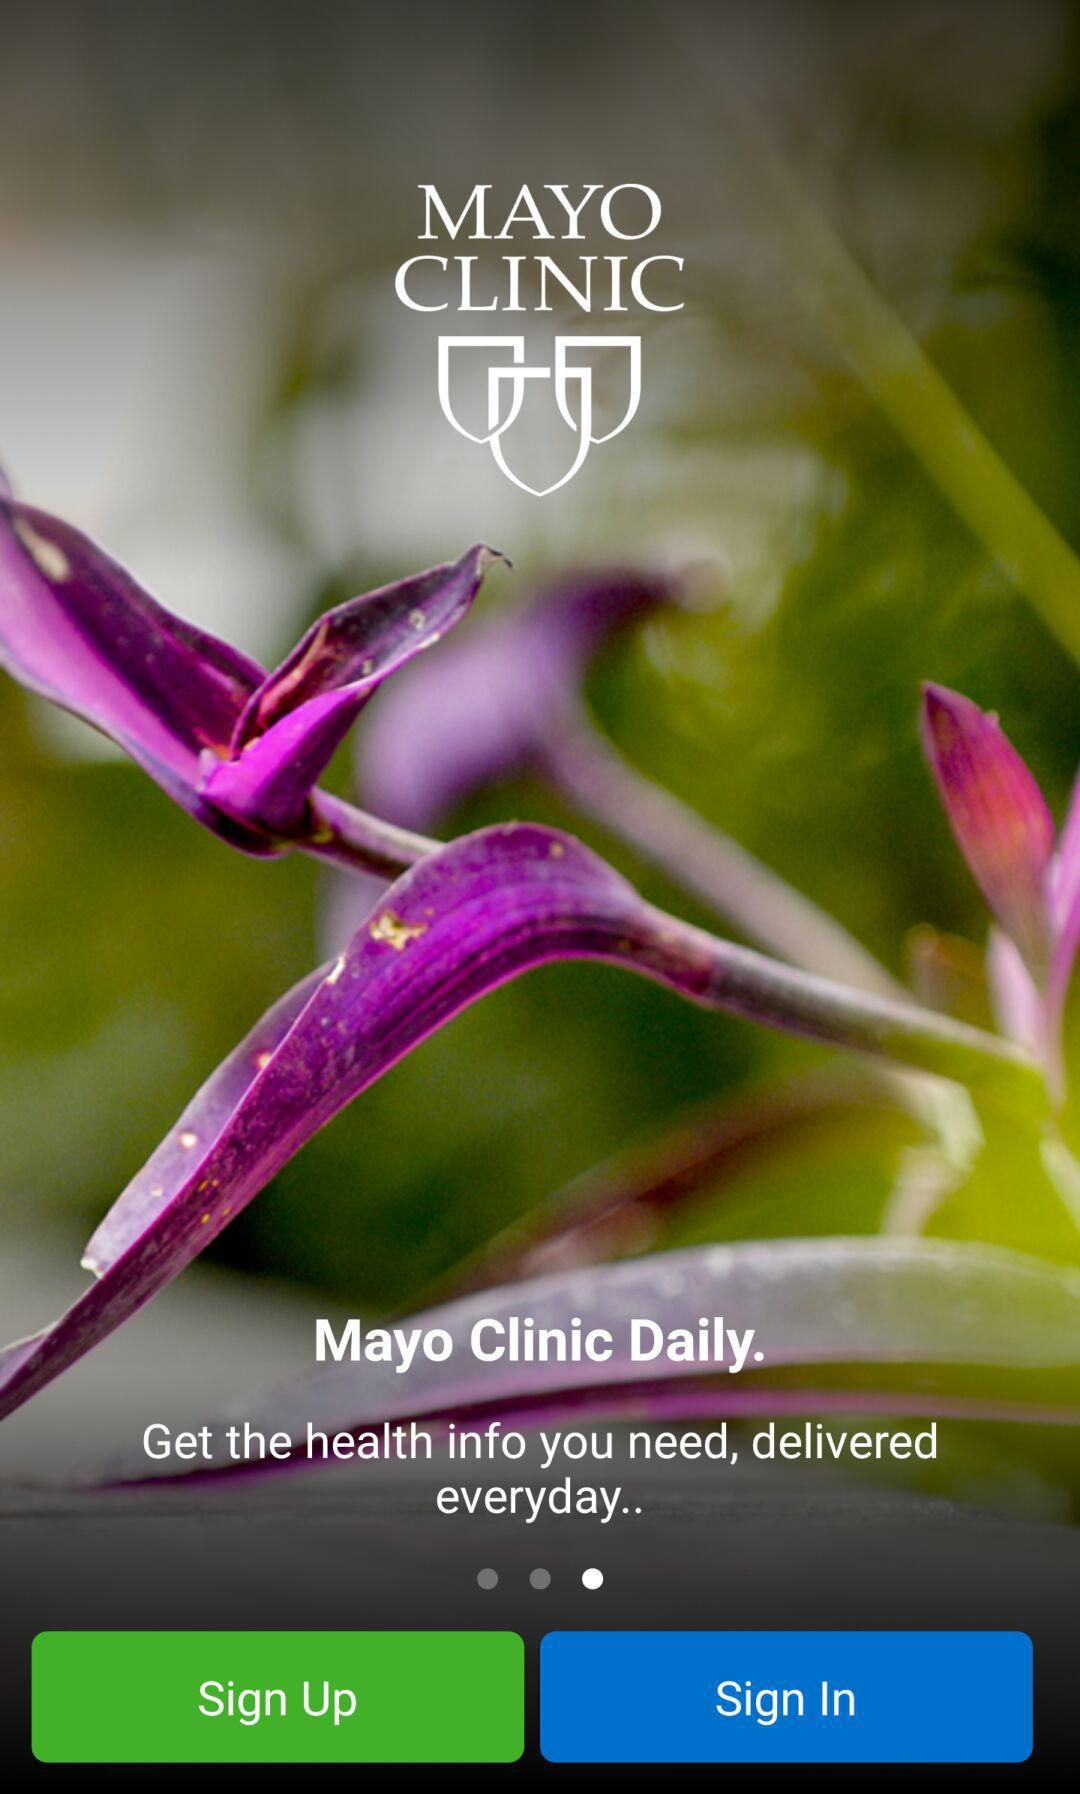BackgroundImage: (1, 1, 1080, 1794)
Image: (395, 185, 689, 500)
PageIndicator: (475, 1566, 605, 1592)
Text: (143, 1420, 939, 1526), (314, 1315, 765, 1376)
TextButton: (32, 1630, 527, 1765), (541, 1630, 1034, 1763)
